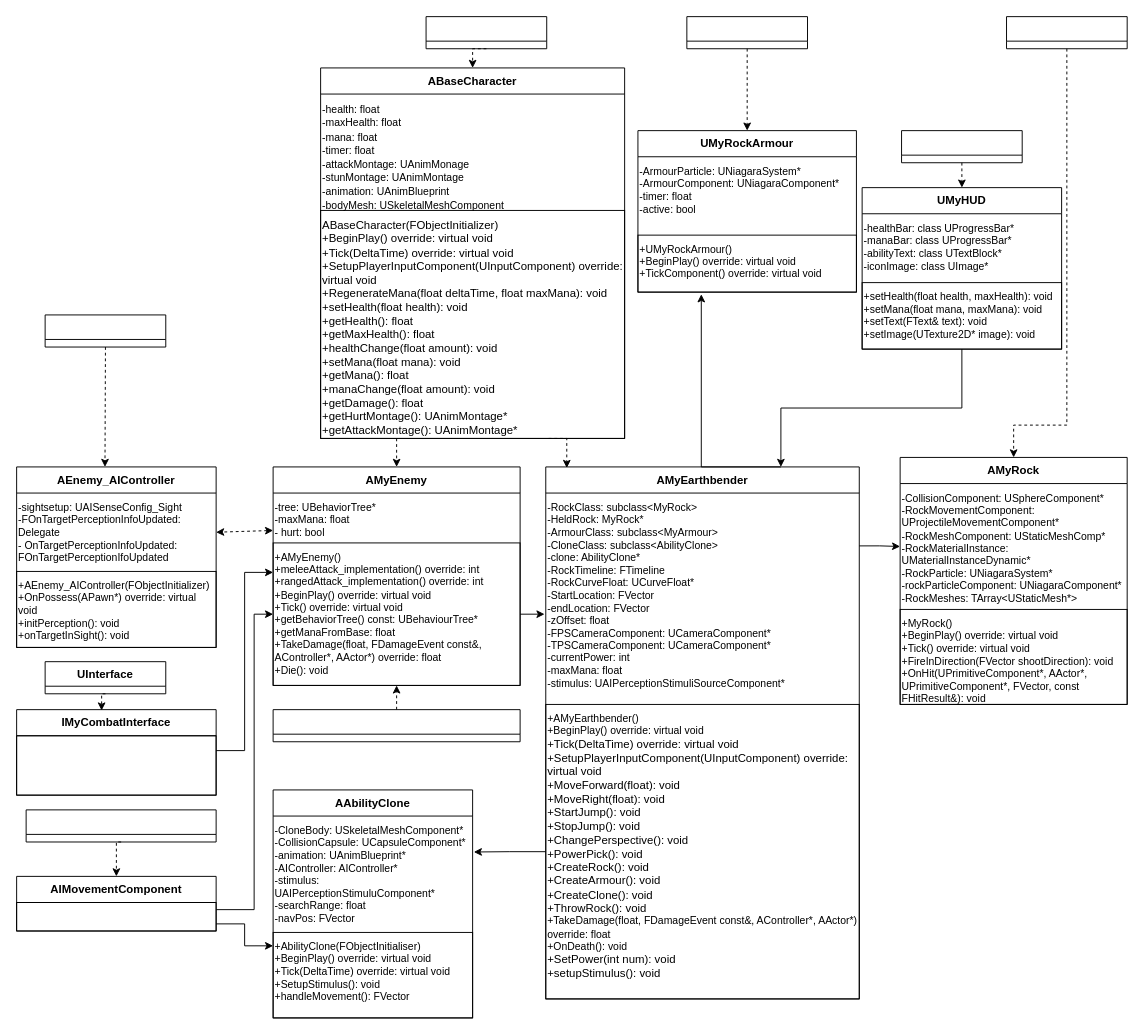
The diagram is 1144 pixels wide and 1035 high, and some of its shapes have lost their labels. Each missing label, with the centre of its shape:
"+AIMovementComponent()" goes at [116,916].
"+meleeAttack(): int +rangedAttack(): int" goes at [116,765].
"AActor" goes at [1066,32].
"AAIController" goes at [105,330].
"ACharacter" goes at [486,32].
"Behaviour Tree" goes at [396,725].
"UActorComponent" goes at [747,32].
"UCharacterMovementComponent" goes at [120,825].
"UUserWidget" goes at [961,146].
